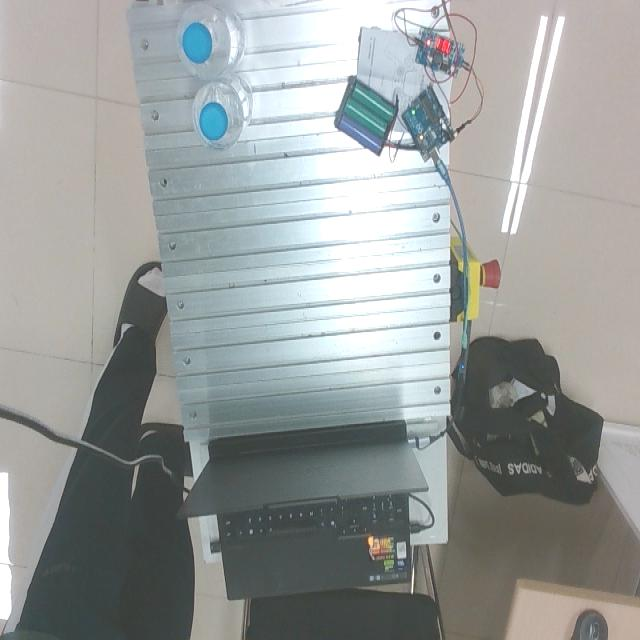lavie: (177, 3, 247, 81), (191, 73, 253, 152)
